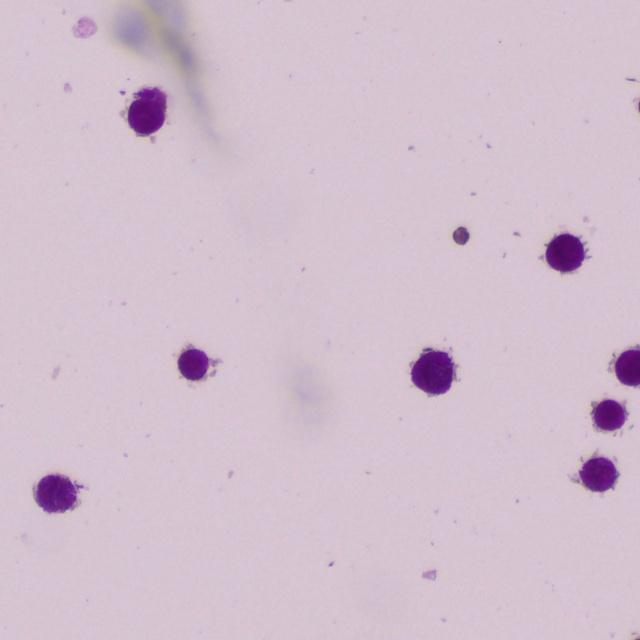non_viable: (452, 226, 469, 245)
viable: (412, 350, 453, 394), (128, 88, 165, 135), (34, 474, 76, 512), (546, 233, 584, 272), (579, 457, 618, 491), (178, 348, 209, 380), (593, 399, 625, 430), (615, 348, 639, 385)
